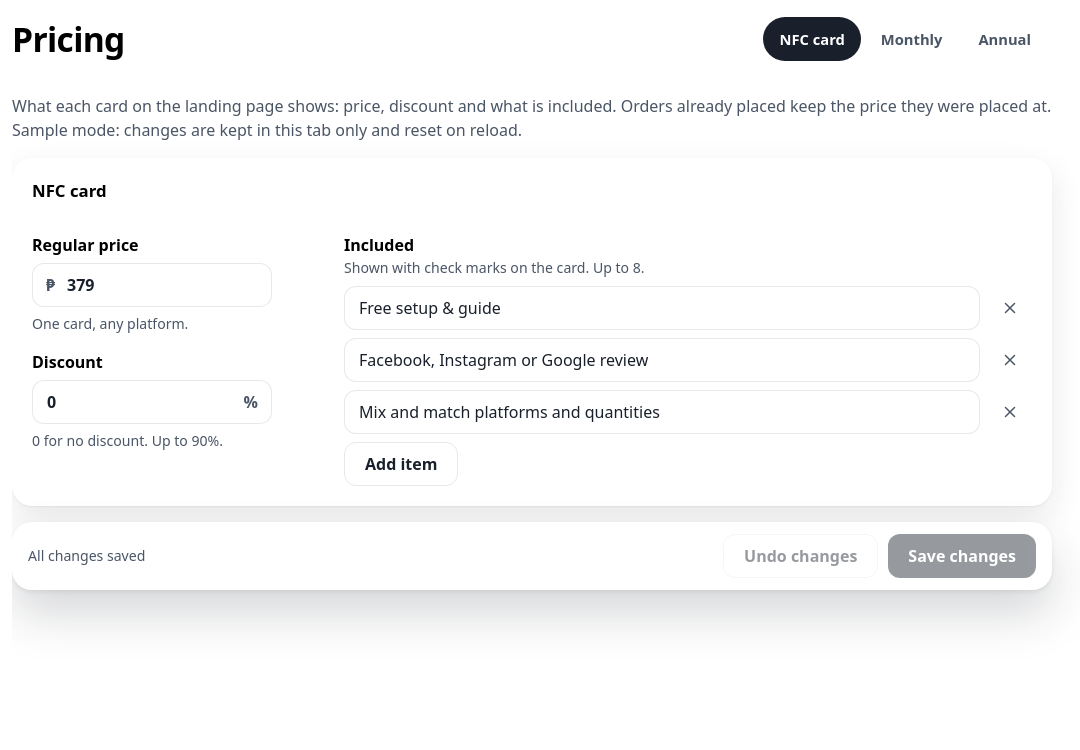
Test: PricingPage › adds, edits and removes included items
The width and height of the screenshot is (1080, 750).
expect the heading "NFC card" is shown: met, box [32,178,107,203]
Click the button "Monthly": coordinates (912, 39) [865,17,958,61]
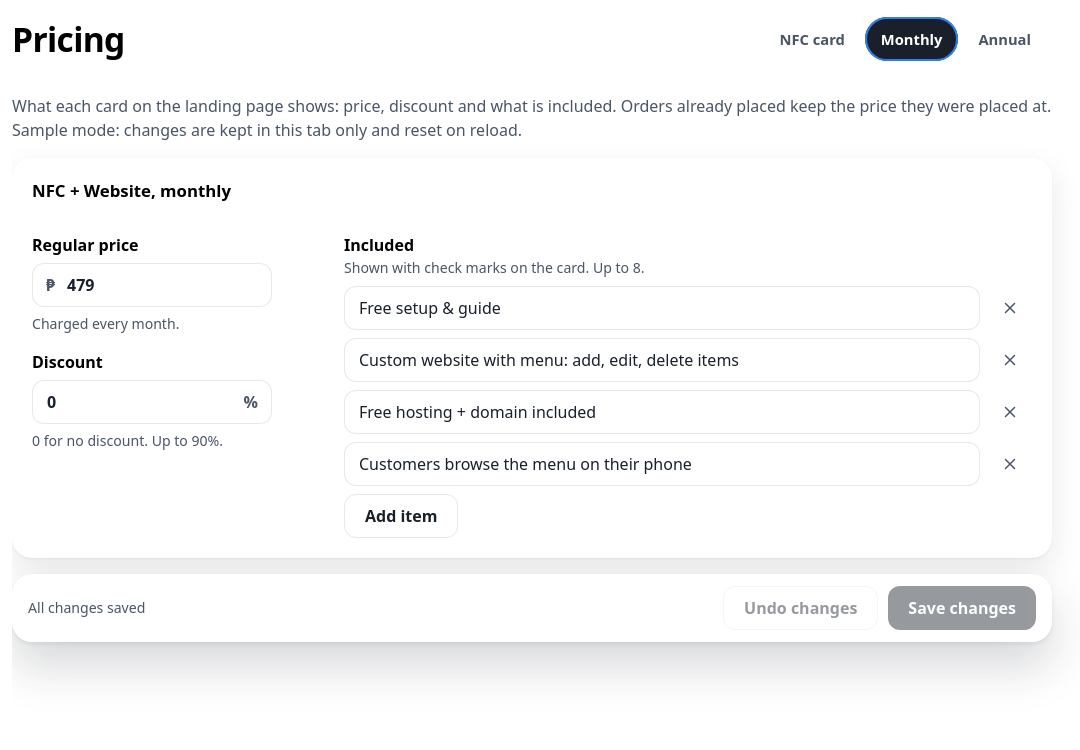
Click the button "Add item": coordinates (401, 516) [344,494,458,538]
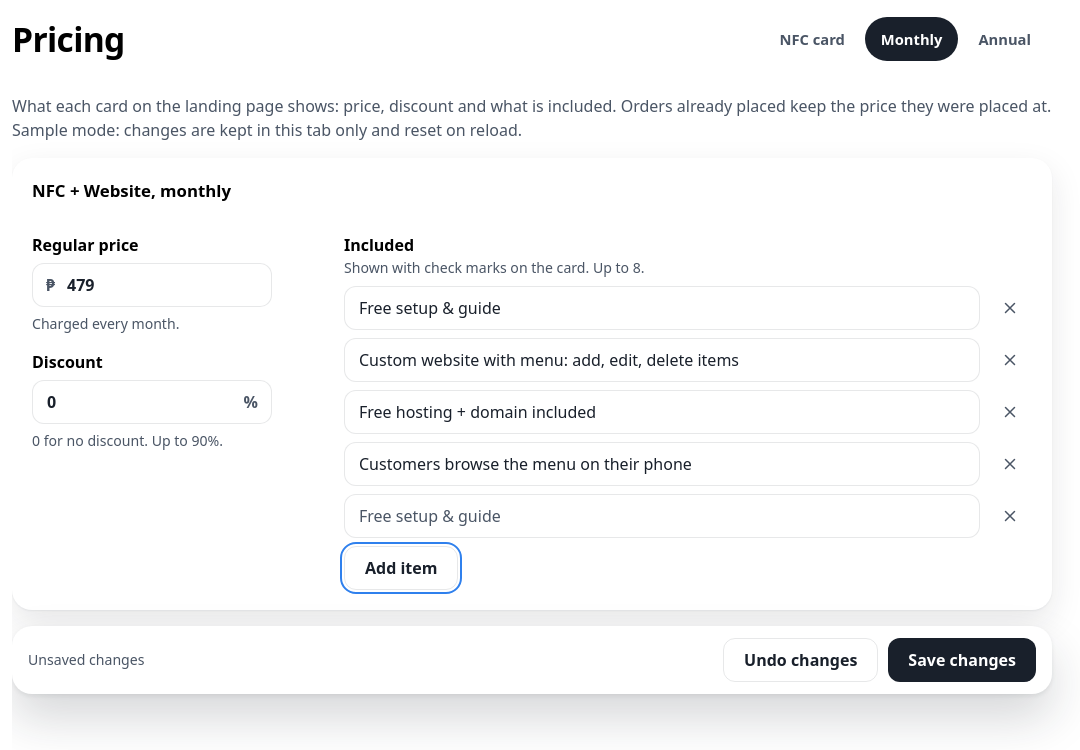
In the field with placeholder "Free setup & guide": coordinates (662, 516) [344,494,980,538], type "Priority support"
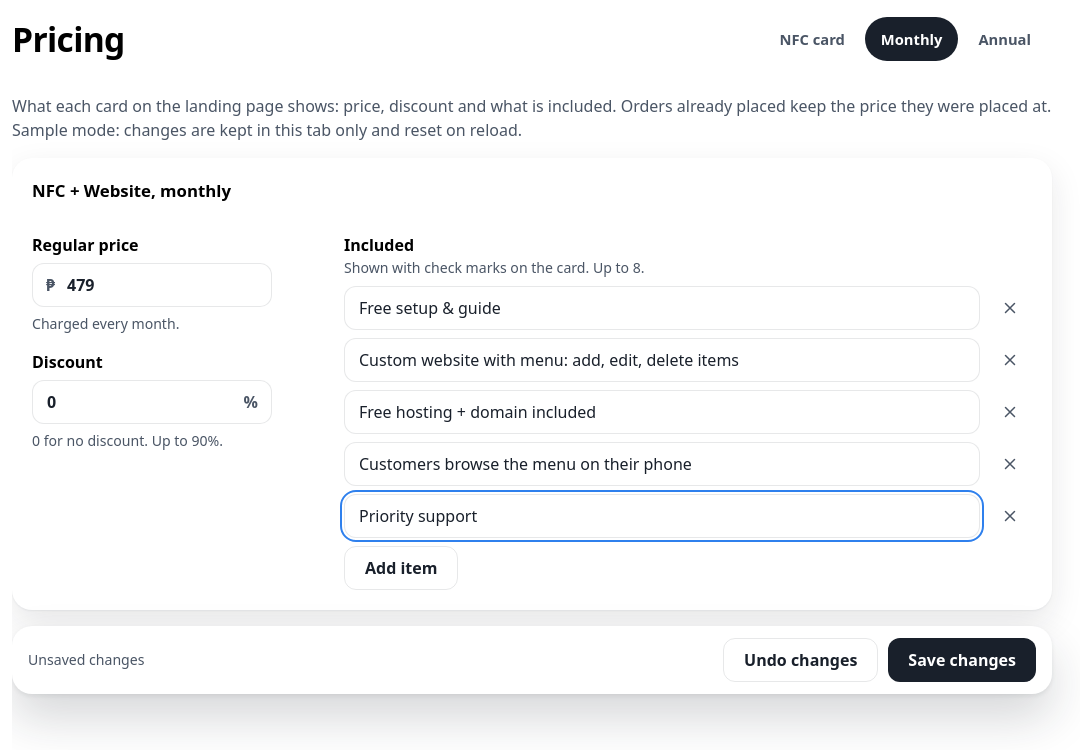
Click the button named "Remove item 1": coordinates (1010, 308) [988,286,1032,330]
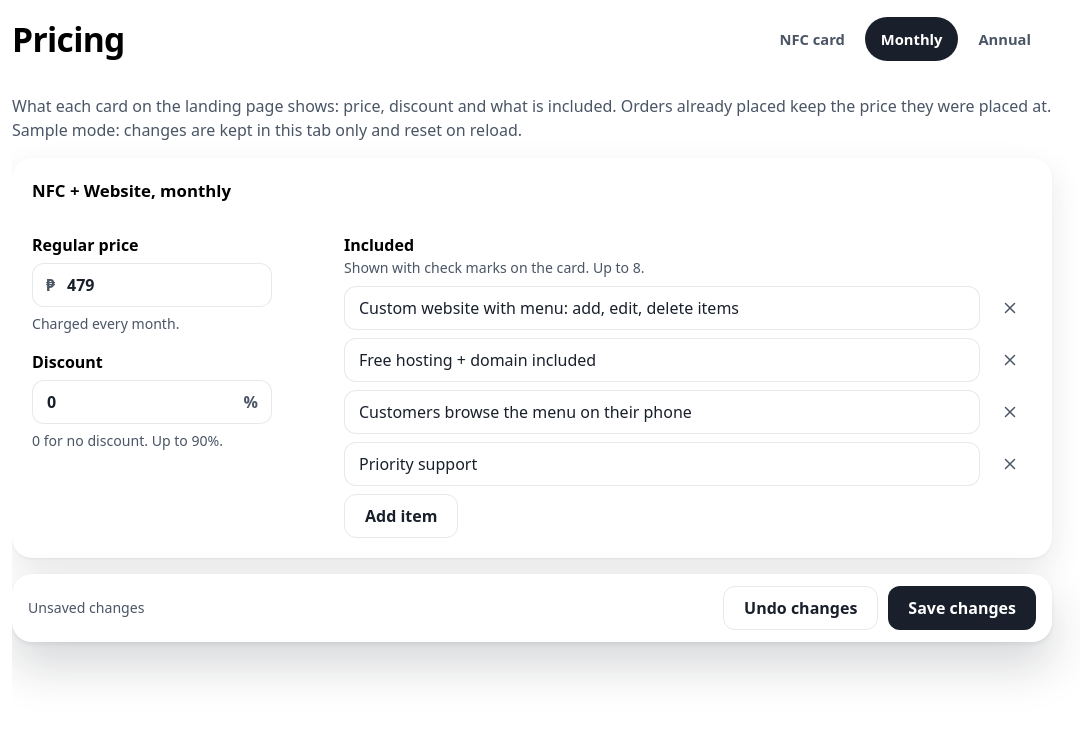
Click the button "Save changes": coordinates (962, 608) [888,586,1036,630]
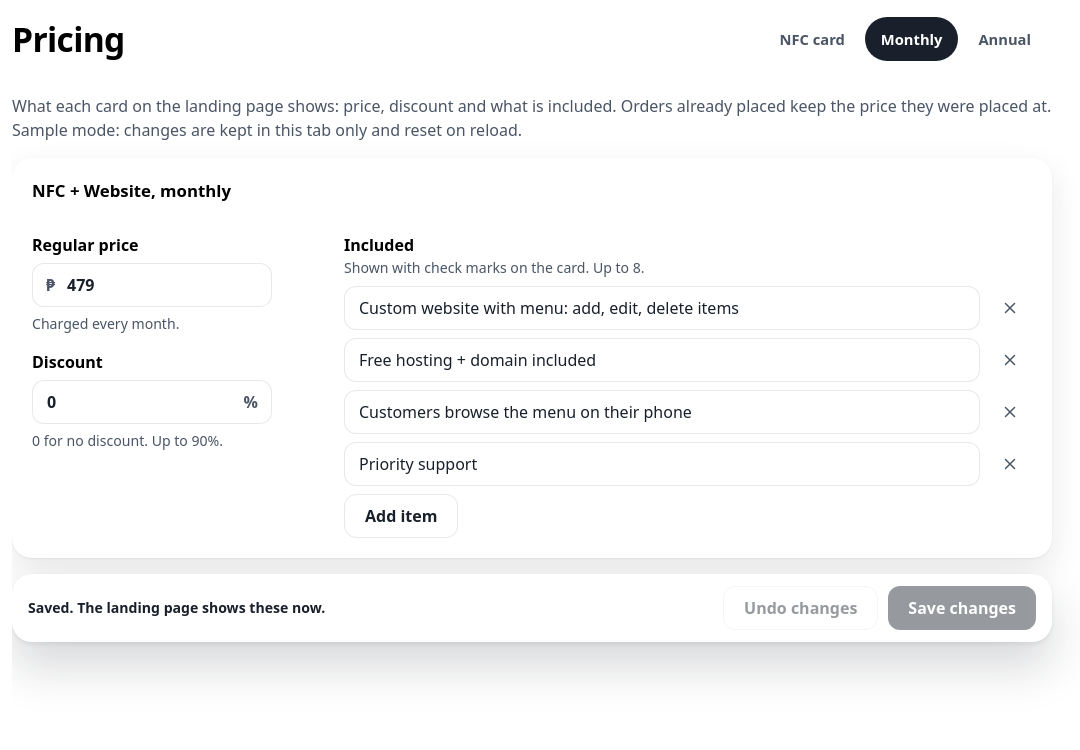
expect the text "Saved. The landing page shows these now." is shown: met, box [28,597,325,618]
